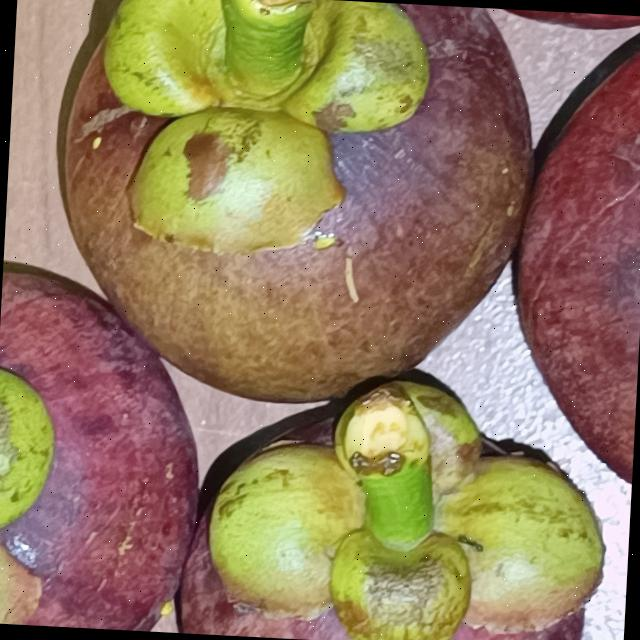mangosteen: (14, 0, 552, 426), (156, 347, 633, 640), (0, 225, 227, 634), (495, 10, 640, 531)
